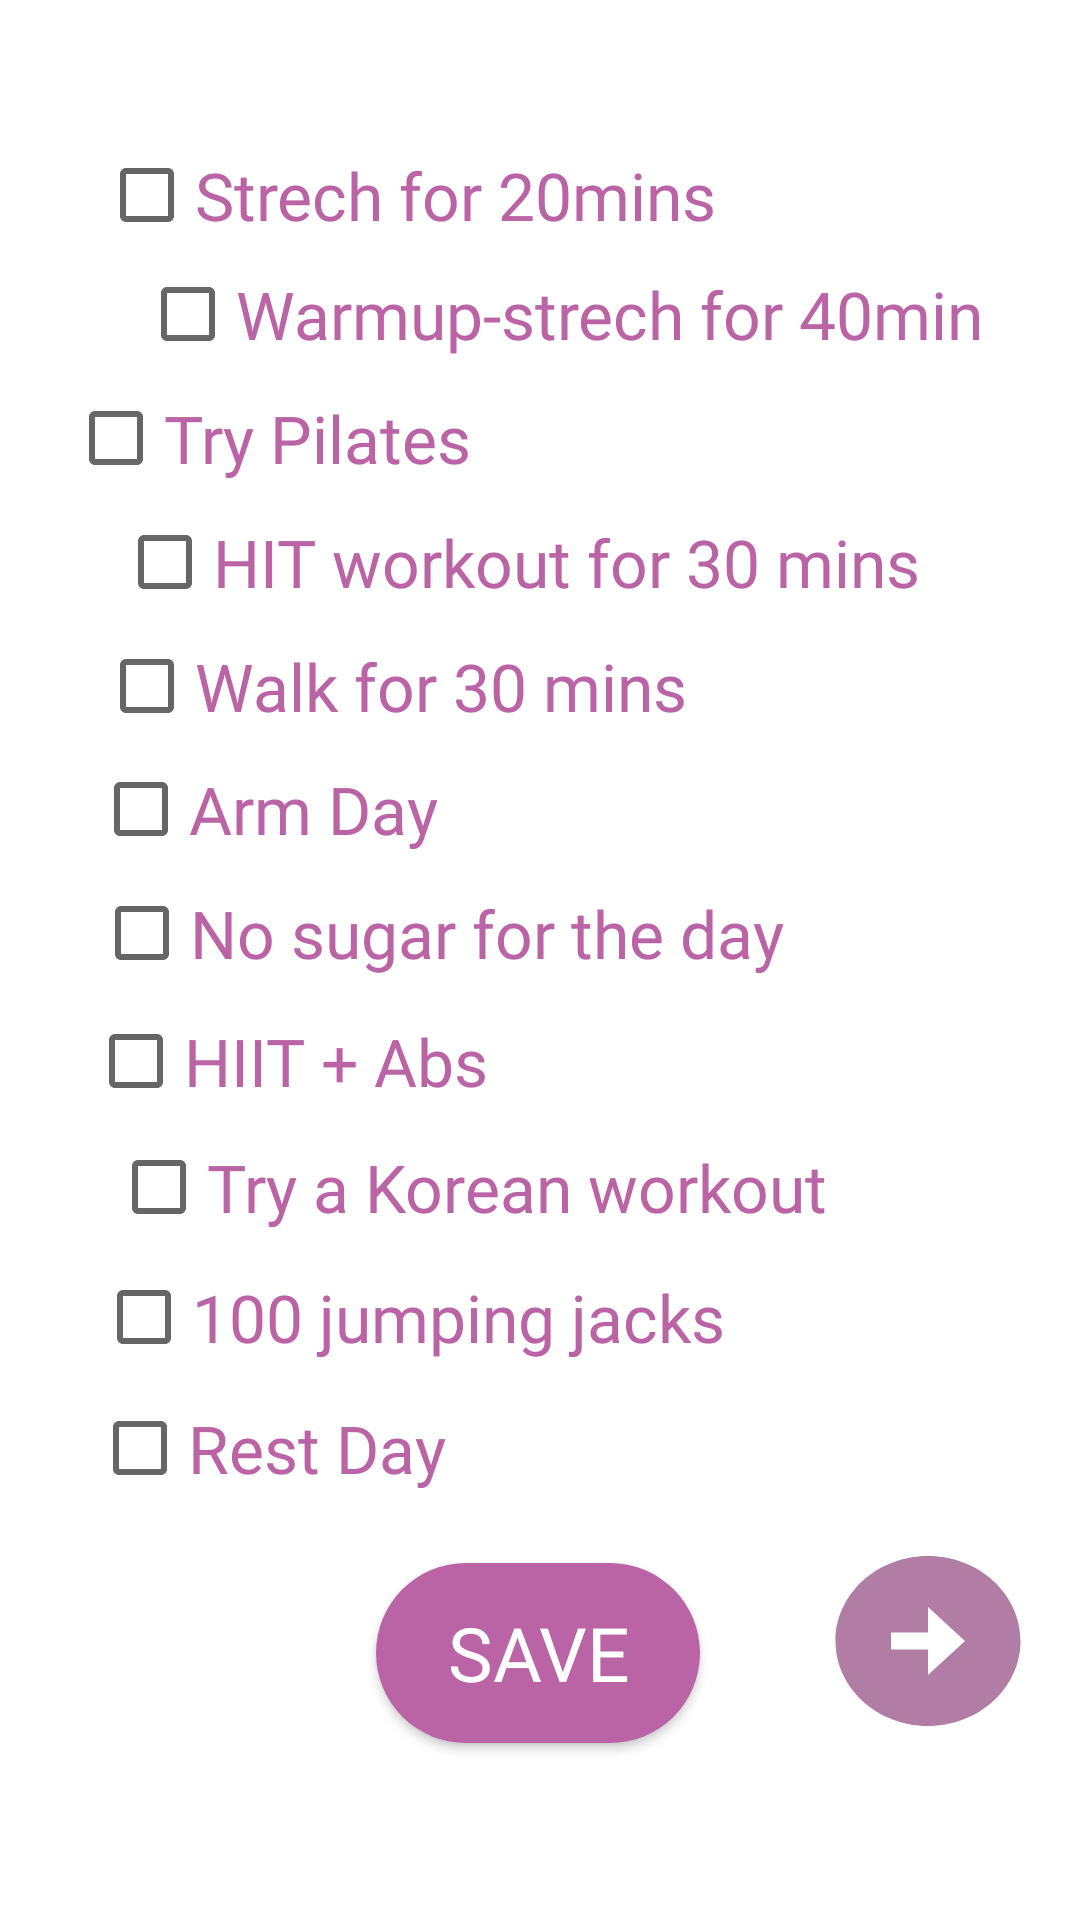

Named icons in this screenshot (1080 x 1920) and their centers, [x,y]:
arrow circle right: [928,1641]
